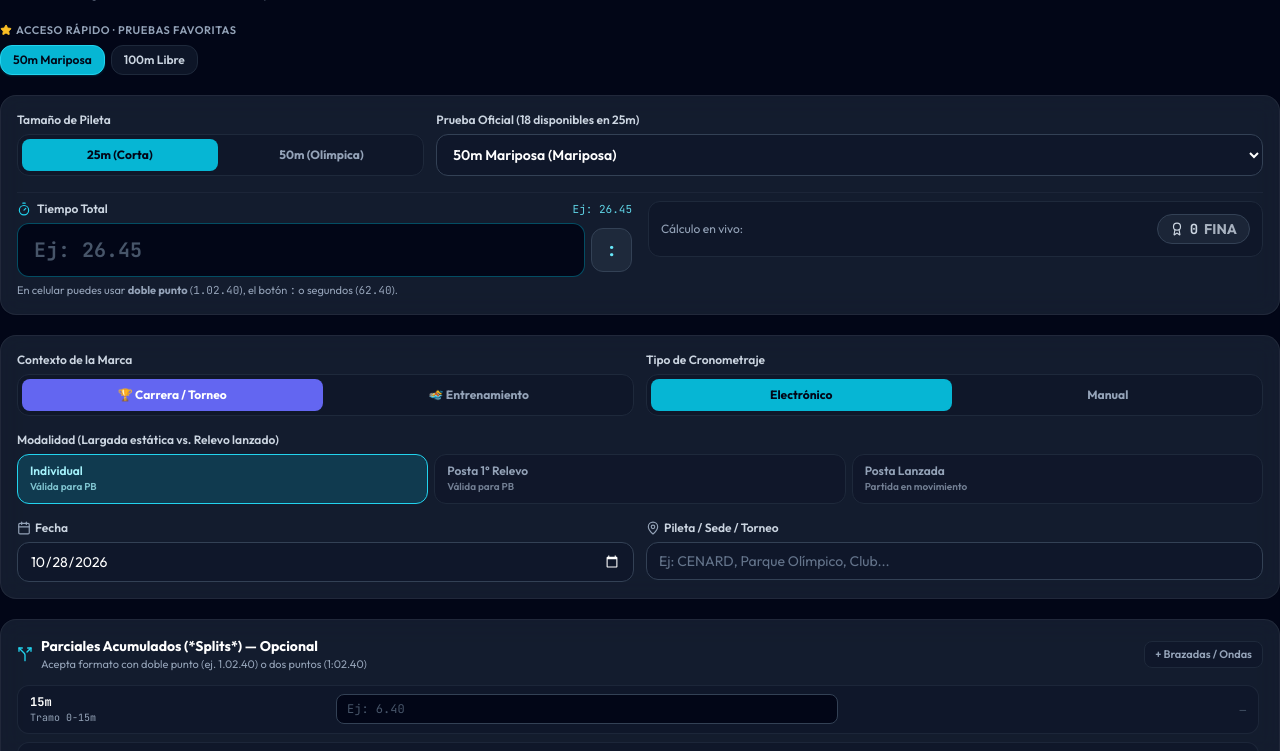
Test: RegisterMarkView Component & Guardado de Marcas › rechaza el guardado si un parcial acumulado intermedio es mayor o igual al tiempo total
Type "26.00" into the field labelled "Tiempo Total".
click(301, 250); type("26.00")  # box [17, 223, 585, 277]
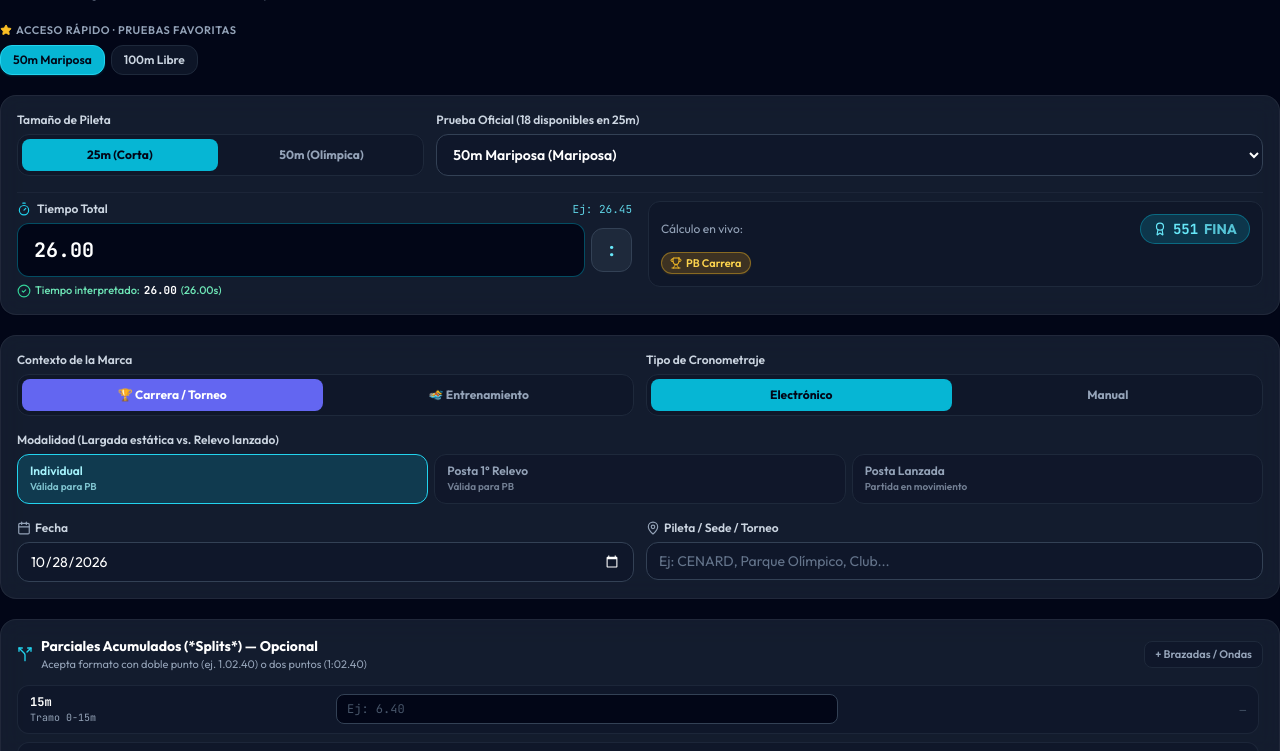
Type "27.00" into the field with placeholder "Ej: 6.40".
click(587, 709); type("27.00")  # box [336, 694, 838, 724]
(page scrolled)
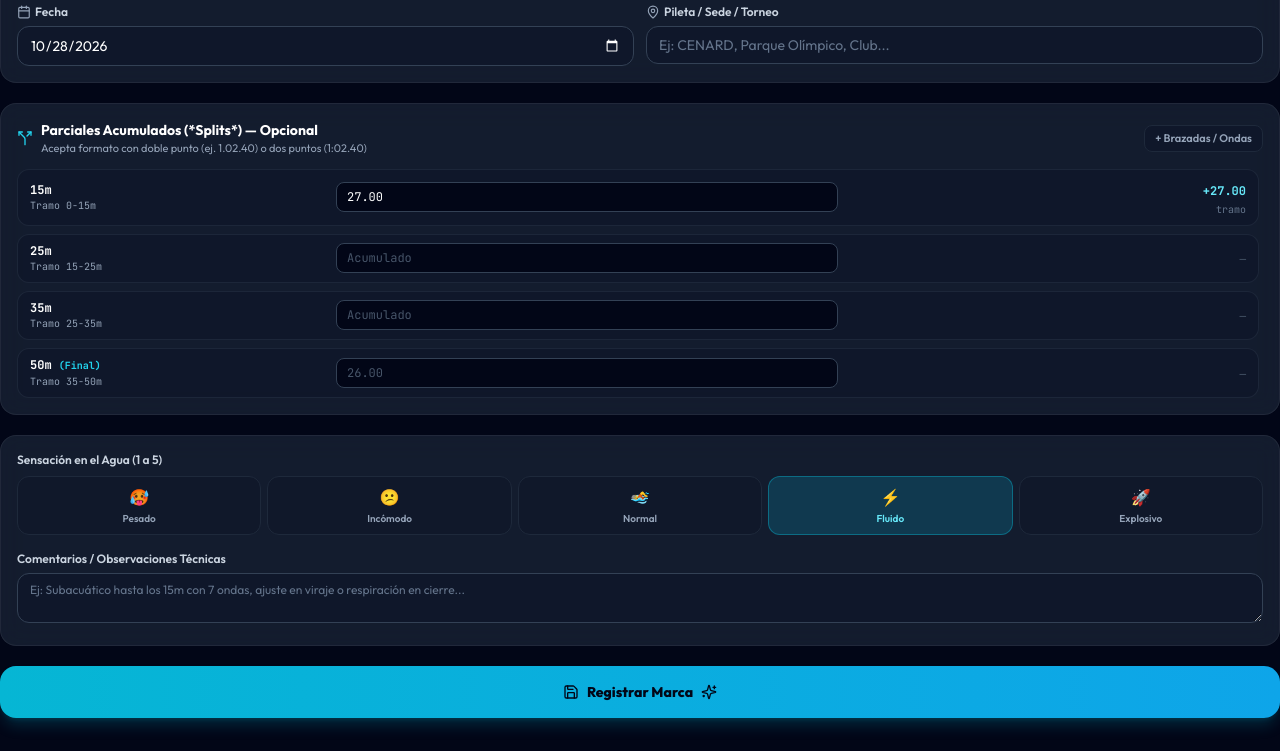
Click the button "Registrar Marca".
click(640, 692)  # box [0, 666, 1279, 718]
(page scrolled)
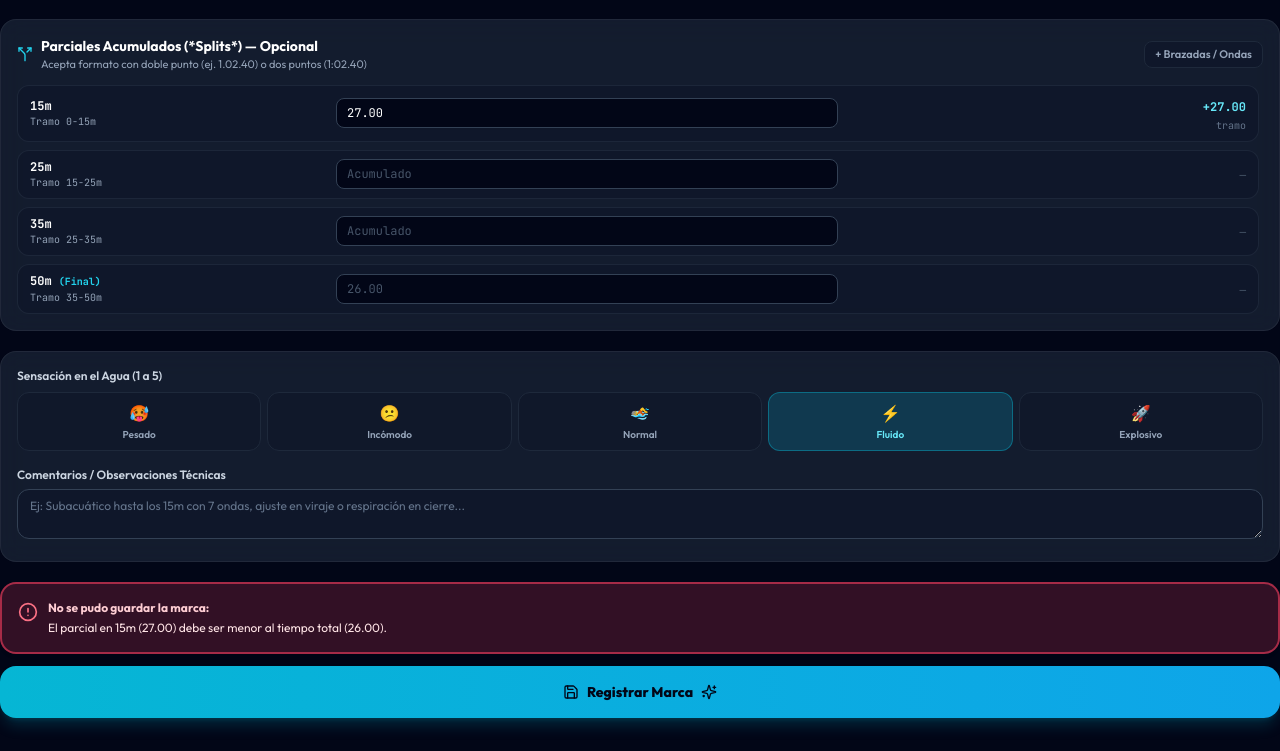
Expected: the text "debe ser menor al tiempo total" is shown, [48, 620, 387, 635]
